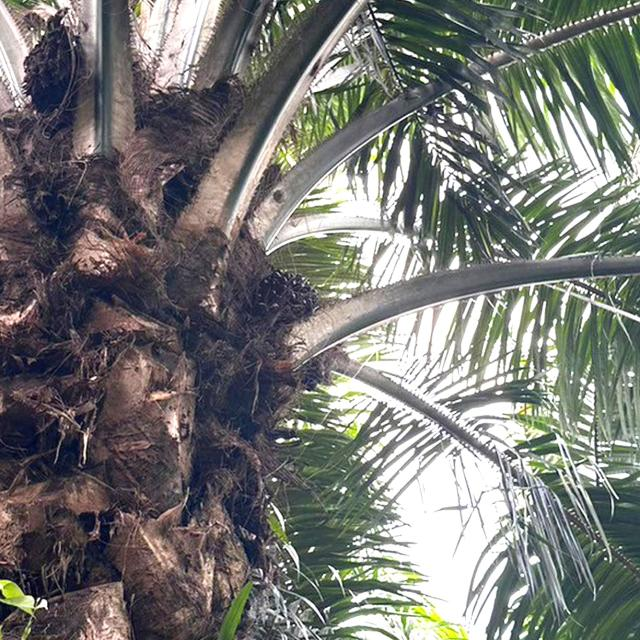almost: (245, 260, 337, 397)
